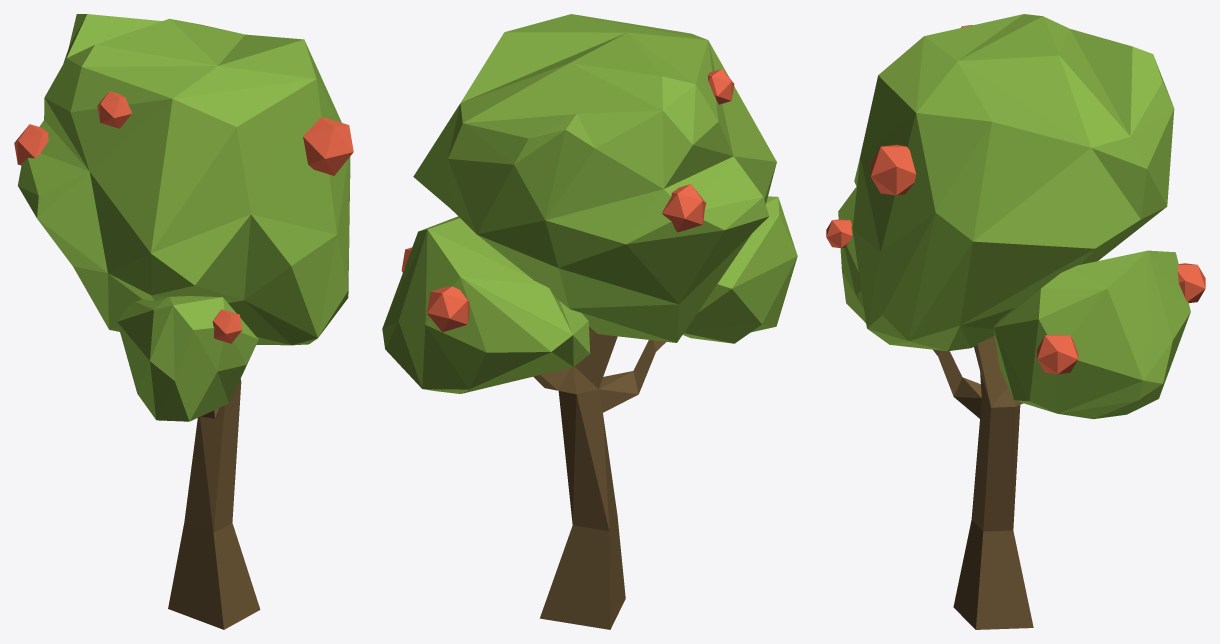
The model's file is plant_L01.FBX.
The picture shows the model from 3 angles, left to right: view 1: azimuth 30°, elevation 25°; view 2: azimuth 150°, elevation 25°; view 3: azimuth 270°, elevation 25°; orthographic projection. The views are drawn at different scales.
Parts seen in each view (by area): view 1: Plant_L01; view 2: Plant_L01; view 3: Plant_L01.
Part boxes in pixels (x1=…): Plant_L01: x1=14, y1=14, x2=353, y2=629; Plant_L01: x1=382, y1=14, x2=797, y2=629; Plant_L01: x1=826, y1=14, x2=1205, y2=629.
Bounding box in the file's own units: 177 × 293 × 183.
Materials: 1 (1 with a texture image).
